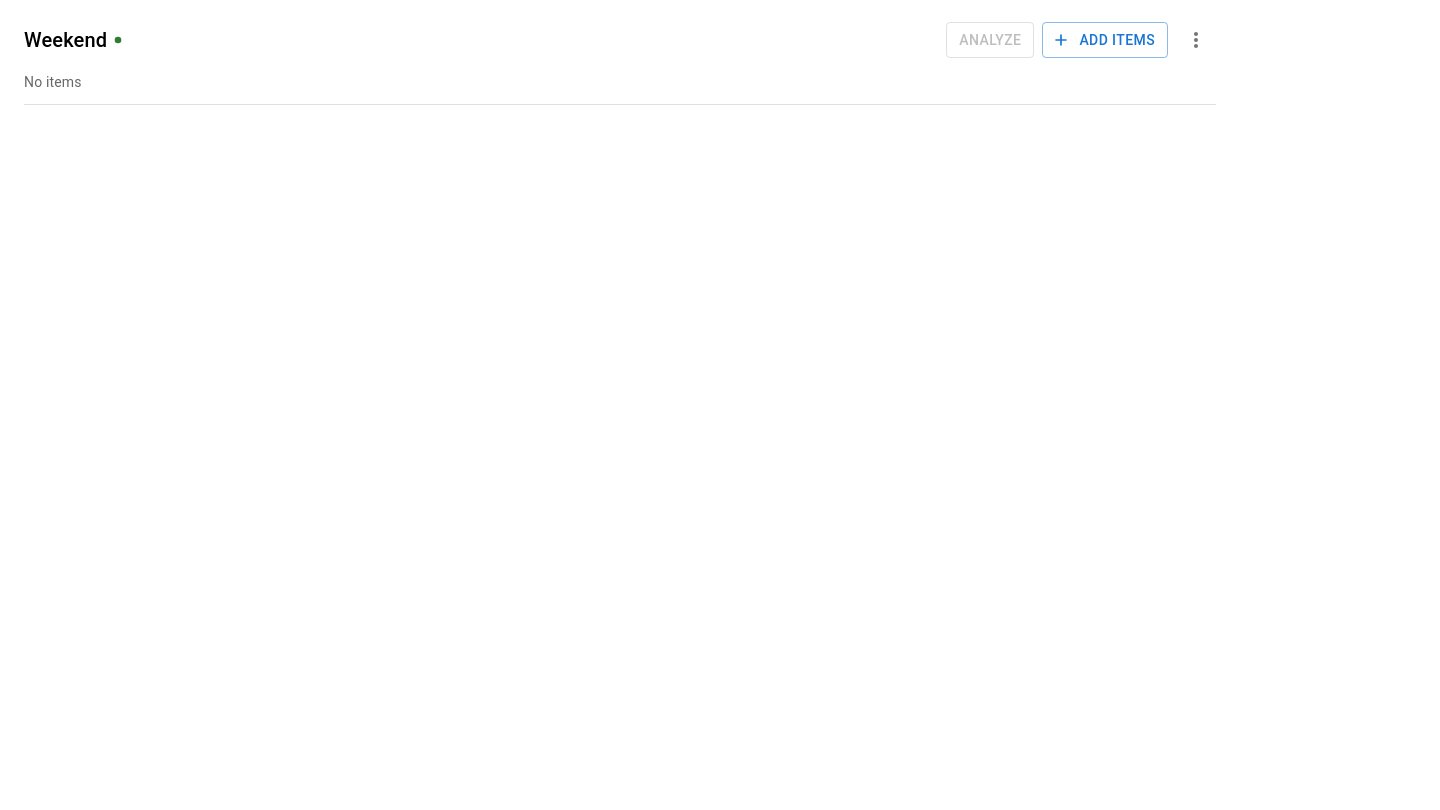
Test: OutfitScreen › renames an outfit from the outfit-level menu
Click the button named "Open actions" at (1196, 40), box [1176,20,1216,60]
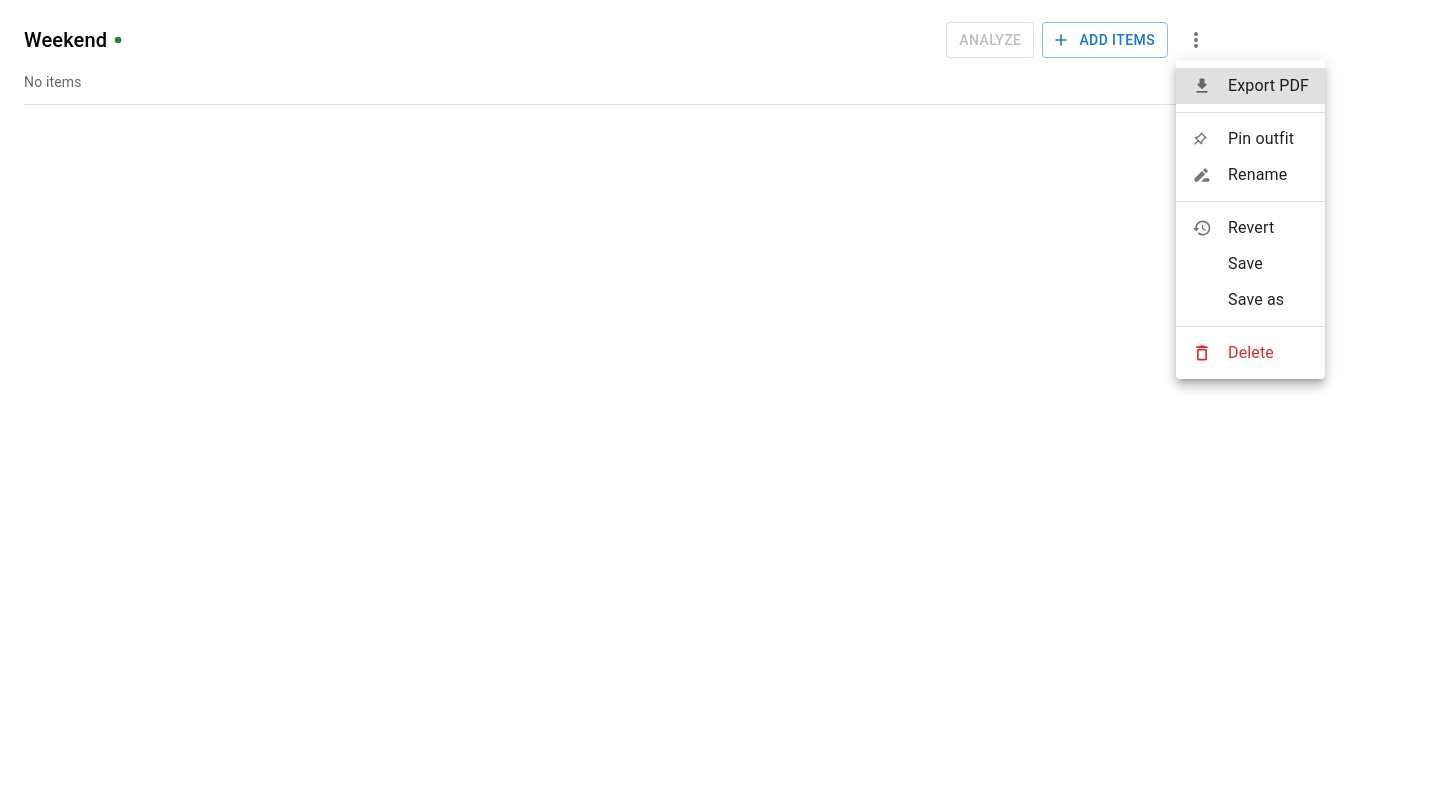
Click the menu item "Rename" at (1240, 175), box [1192,165,1287,185]
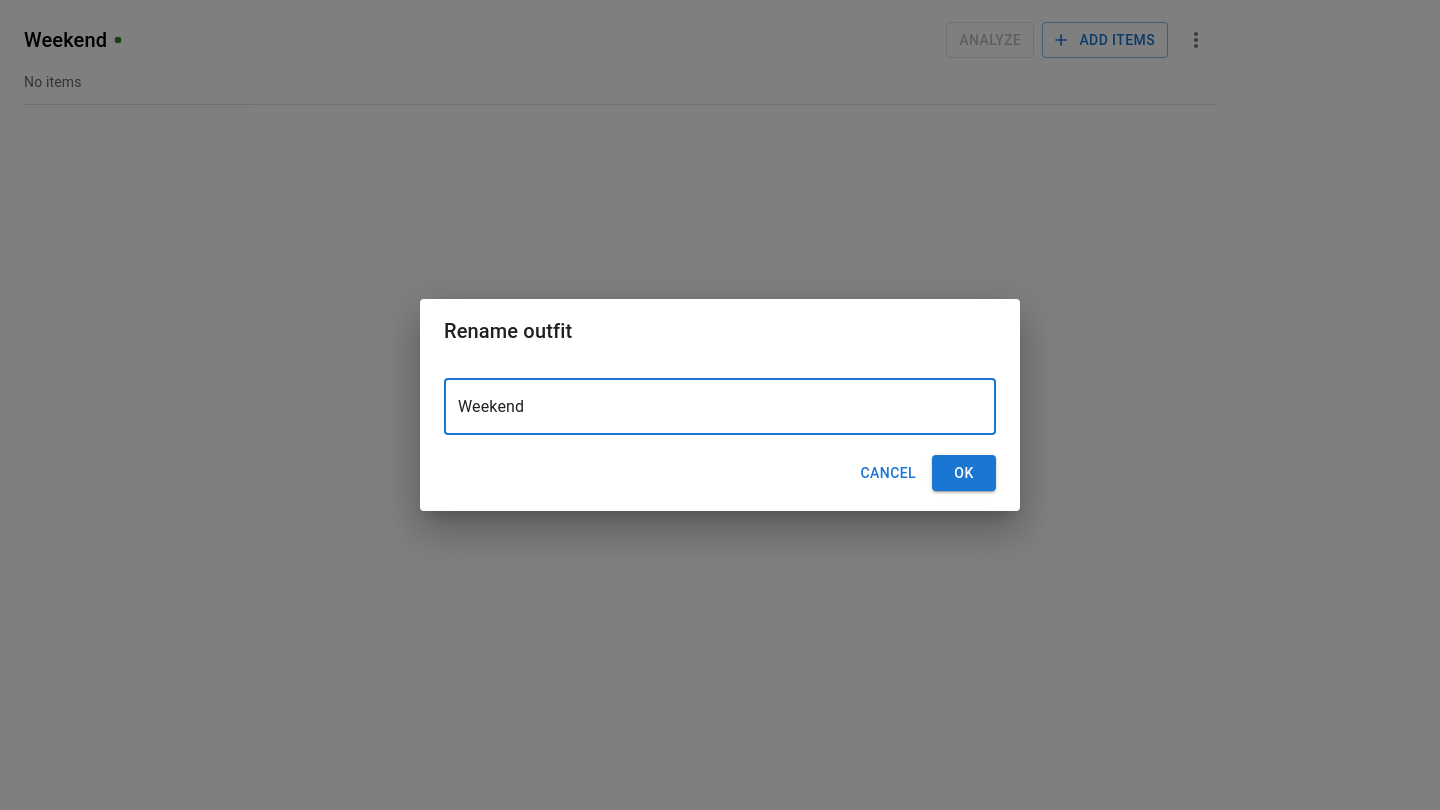
Check: the field named "Rename outfit" holds "Weekend"
Replace the text in the field named "Rename outfit" with "Desktop outfit" at (720, 407), box [444,379,996,435]
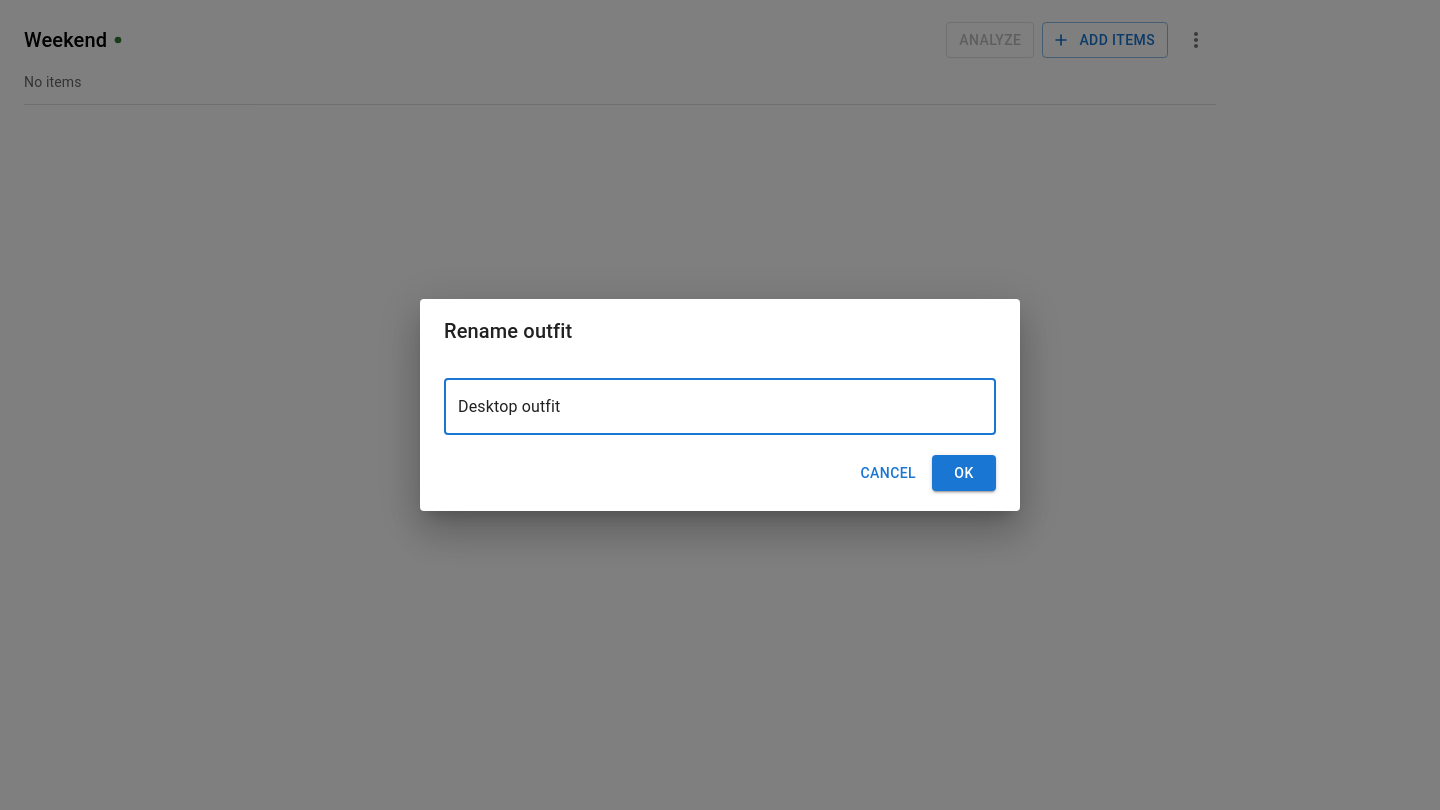
Click the button "OK" at (964, 473), box [932,455,996,491]
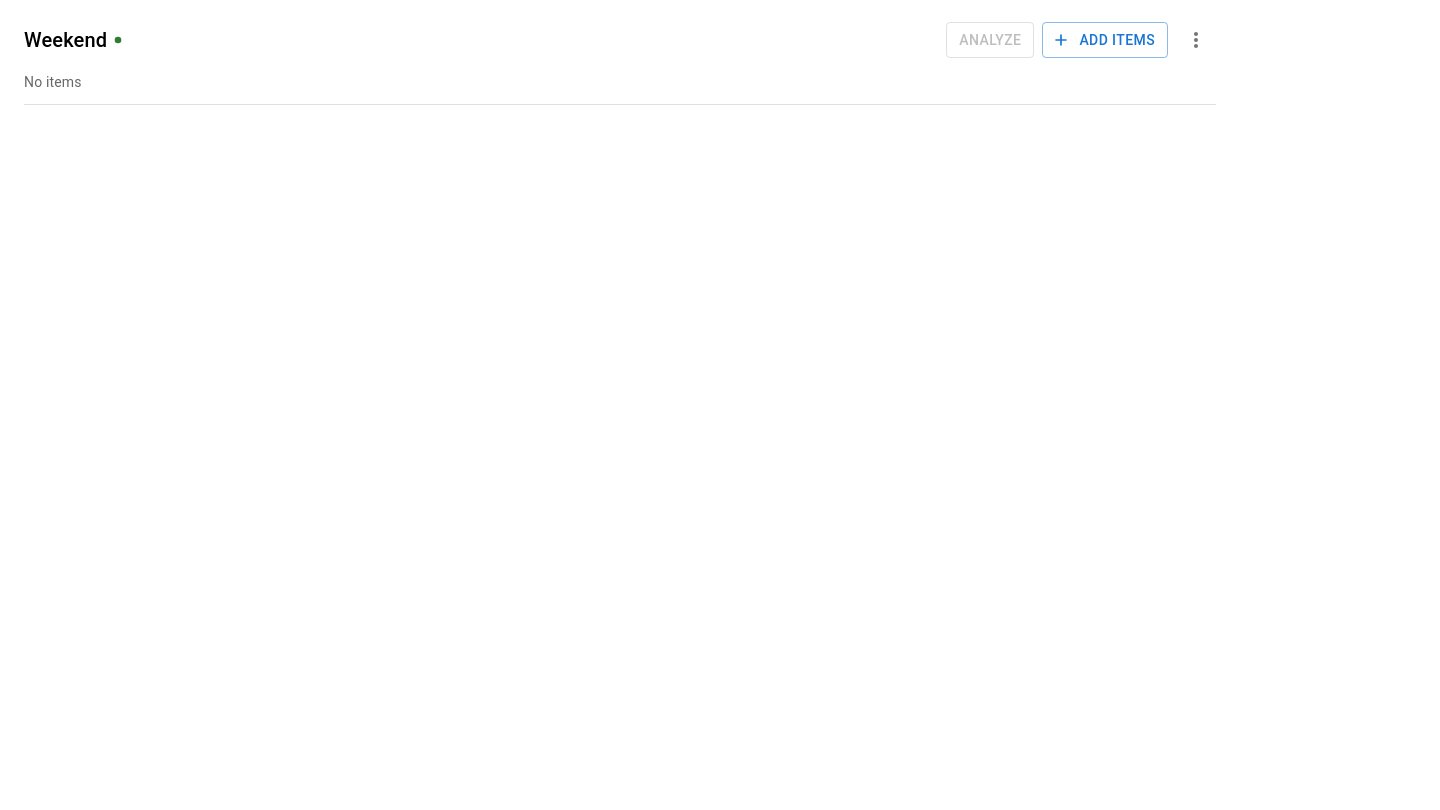
Check: the heading "Rename outfit" is gone
